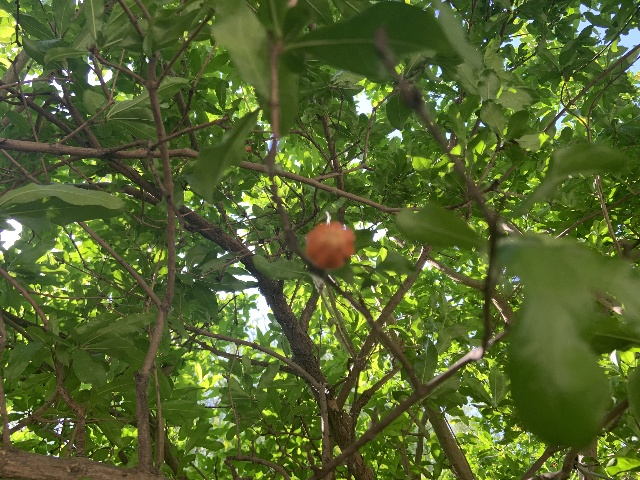bud: (304, 221, 356, 270), (244, 146, 252, 152)
